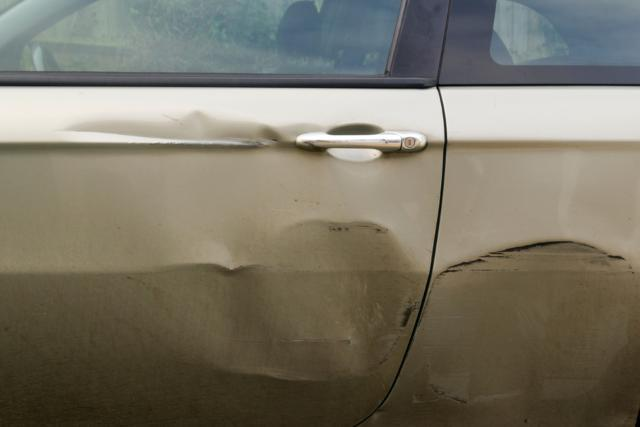Door: (1, 92, 410, 427), (431, 218, 629, 320)
